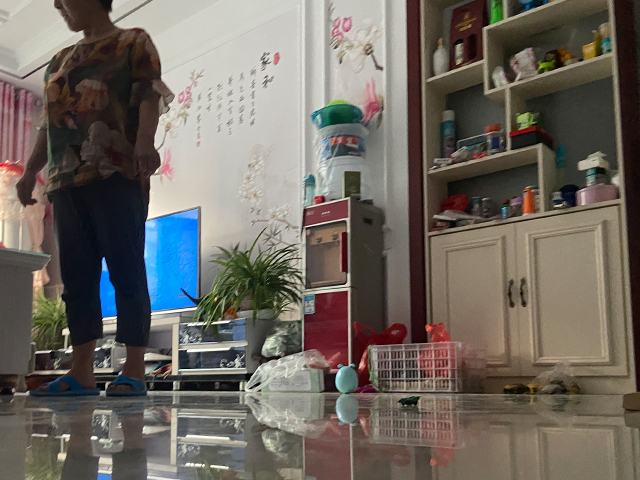cabinet: (422, 202, 634, 397), (26, 314, 277, 392)
